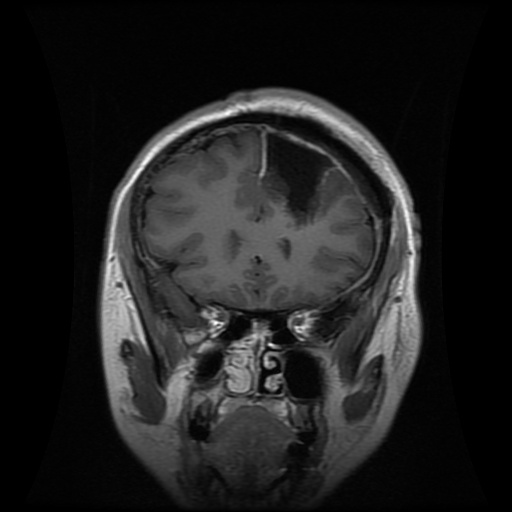glioma: (261, 132, 331, 224)
